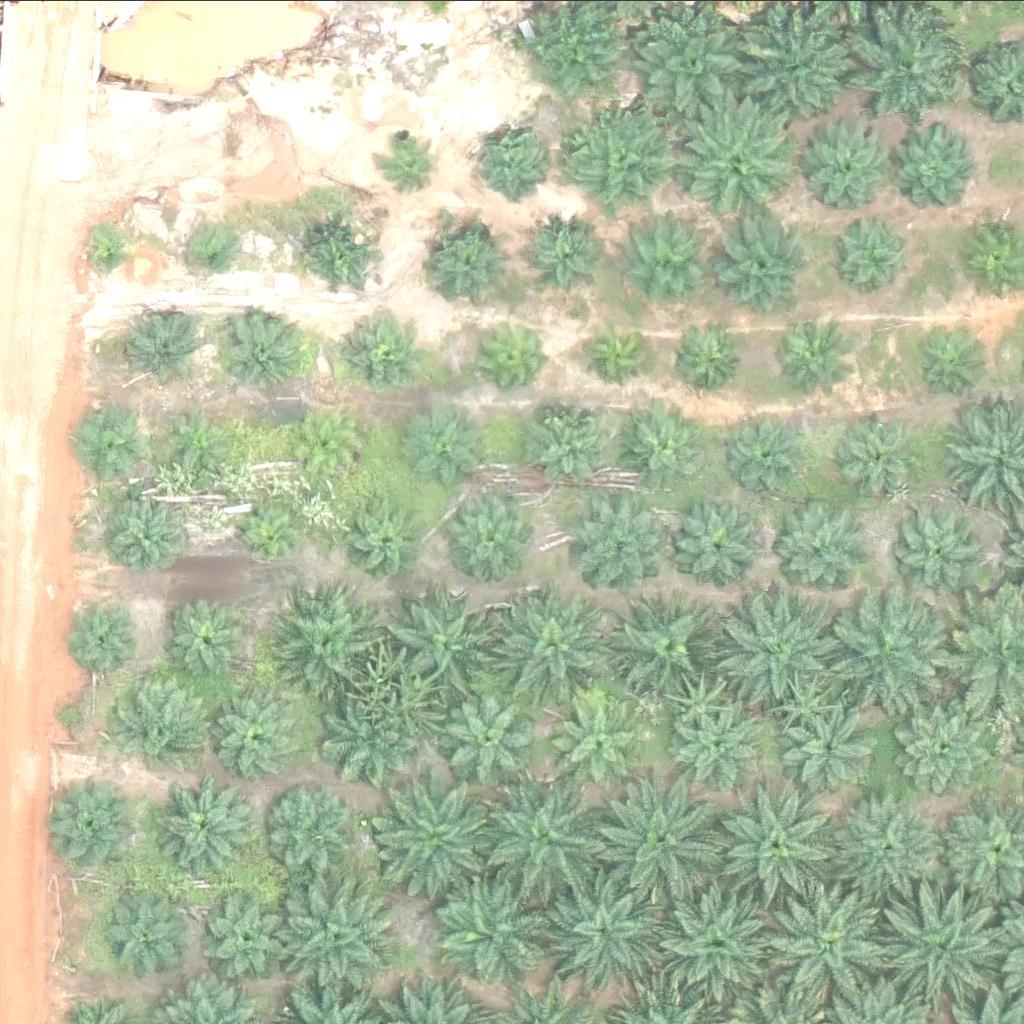Kelapa_Sawit: (670, 98, 796, 223), (486, 768, 612, 893), (598, 776, 724, 901), (712, 777, 838, 902), (872, 885, 998, 1010), (756, 885, 882, 1010), (651, 884, 777, 1009), (539, 868, 665, 993), (266, 867, 392, 992), (842, 1, 968, 126), (381, 772, 506, 897), (635, 6, 760, 131), (502, 585, 615, 698), (836, 600, 949, 713), (840, 788, 953, 901), (721, 594, 835, 706), (570, 104, 683, 216), (795, 109, 896, 209), (401, 589, 502, 689), (613, 598, 714, 698), (626, 217, 726, 317), (278, 595, 378, 695), (892, 702, 992, 802), (440, 880, 540, 980), (114, 673, 214, 773), (147, 778, 247, 878), (431, 215, 519, 303), (889, 123, 977, 211), (624, 403, 712, 491), (841, 406, 929, 494), (581, 497, 669, 585), (670, 500, 758, 588), (898, 503, 986, 591), (793, 700, 881, 788), (448, 690, 536, 778), (264, 784, 352, 872), (48, 776, 136, 864), (204, 895, 292, 983), (450, 492, 539, 579), (214, 688, 303, 775), (528, 212, 616, 299), (716, 221, 804, 308), (532, 405, 620, 492), (726, 413, 814, 500), (781, 507, 869, 594), (669, 704, 757, 791), (554, 699, 642, 786), (321, 700, 409, 787), (103, 489, 191, 576), (160, 594, 248, 681), (104, 897, 192, 984), (125, 311, 201, 386), (70, 601, 146, 676), (306, 220, 382, 295), (781, 317, 857, 392), (670, 322, 746, 397), (582, 316, 658, 391), (469, 118, 545, 193), (222, 311, 298, 386), (349, 503, 424, 578), (413, 406, 488, 481), (340, 319, 415, 394), (473, 313, 548, 388), (917, 320, 992, 395), (837, 211, 912, 286), (75, 410, 138, 473), (297, 414, 360, 477), (171, 405, 234, 467), (378, 126, 441, 188), (237, 506, 299, 568), (86, 226, 136, 276), (193, 230, 243, 280)
